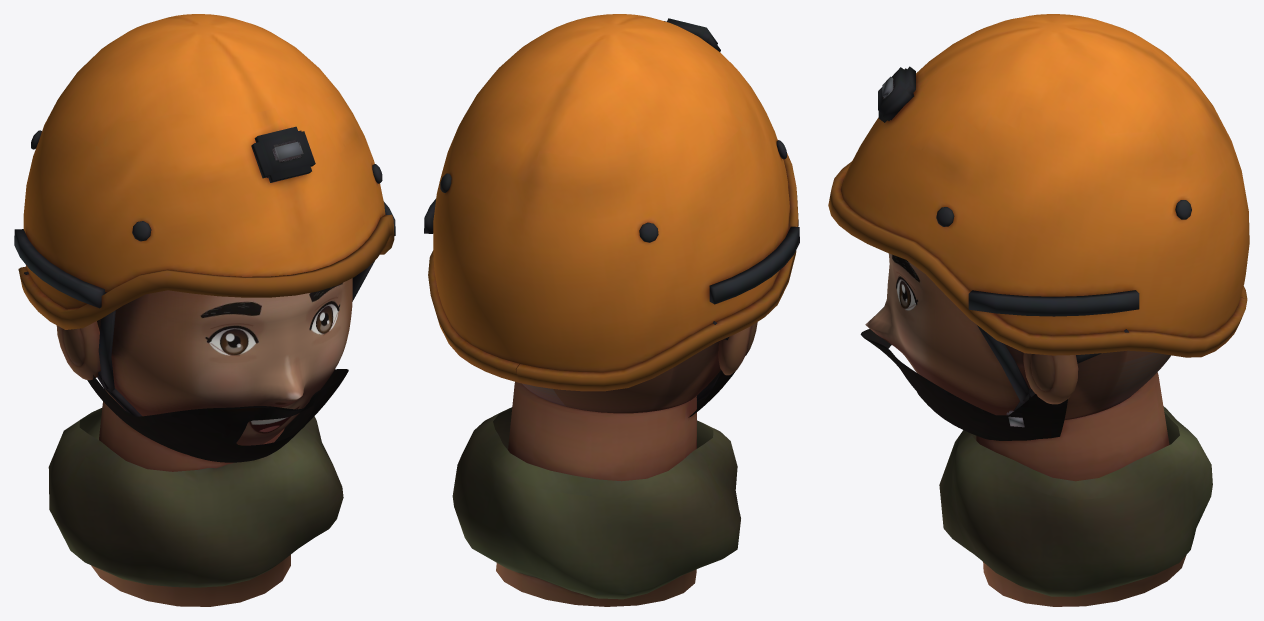
File: cabeza-shotgun-m.glb
3 views of the same model, side by side, from view 1: azimuth 30°, elevation 25°; view 2: azimuth 150°, elevation 25°; view 3: azimuth 270°, elevation 25° (orthographic).
Visible parts, largest first — view 1: h_Head; view 2: h_Head; view 3: h_Head.
Boxes of the visible parts, left/top/right/bottom form: h_Head: left=14, top=14, right=395, bottom=606; h_Head: left=424, top=14, right=799, bottom=606; h_Head: left=828, top=14, right=1249, bottom=606.
Size of the model in its own units: 0.265 by 0.4275 by 0.2996.
1 material, 1 textured.
